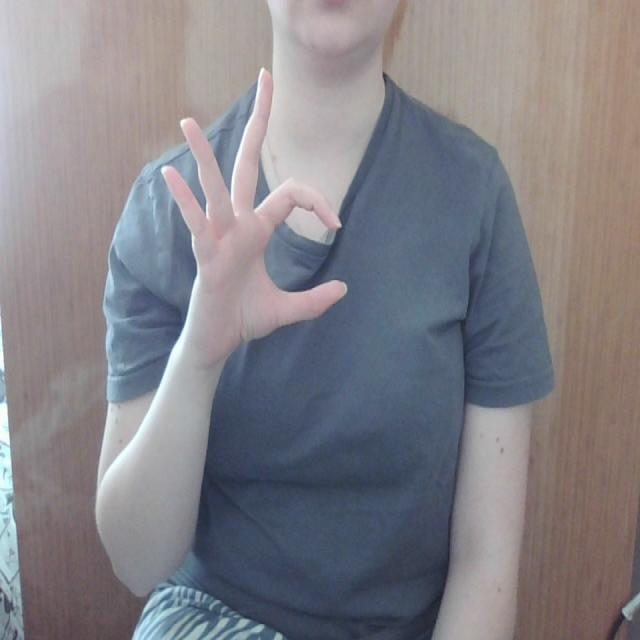Tuvalet: (143, 50, 369, 362)
